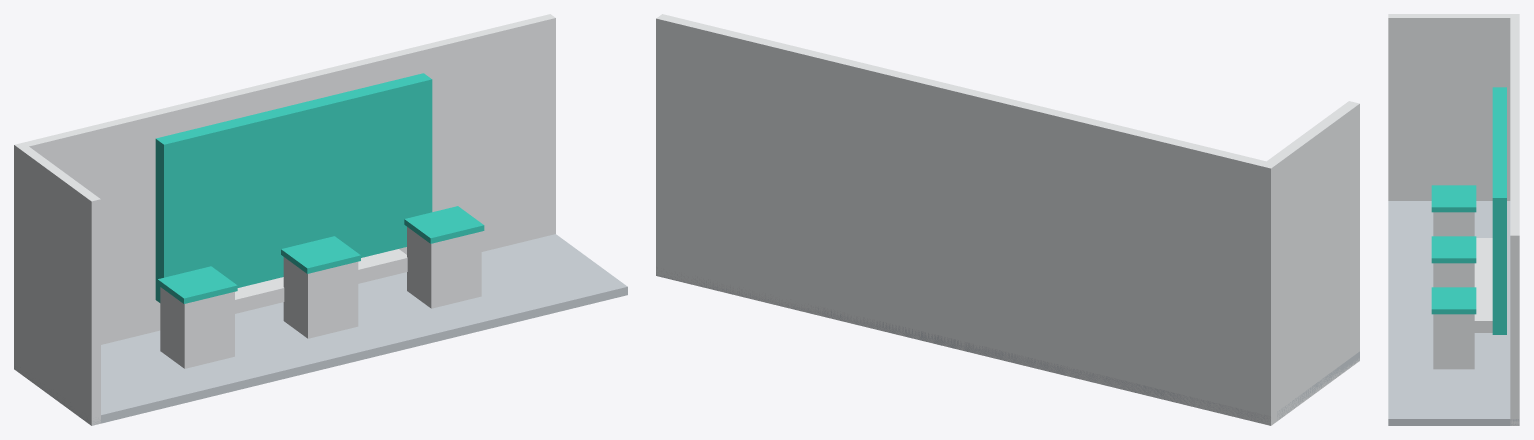
3 views of the same model, side by side, from view 1: azimuth 30°, elevation 25°; view 2: azimuth 150°, elevation 25°; view 3: azimuth 270°, elevation 25° (orthographic). The views are drawn at different scales.
Parts seen in each view (by area): view 1: Exhibition Booth Concept; view 2: Exhibition Booth Concept; view 3: Exhibition Booth Concept.
Boxes of the visible parts, x1,y1,x2,y2 form: Exhibition Booth Concept: [14, 14, 627, 425]; Exhibition Booth Concept: [656, 14, 1359, 425]; Exhibition Booth Concept: [1388, 14, 1519, 425].
Size of the model in its own units: 8 by 3.2 by 2.
